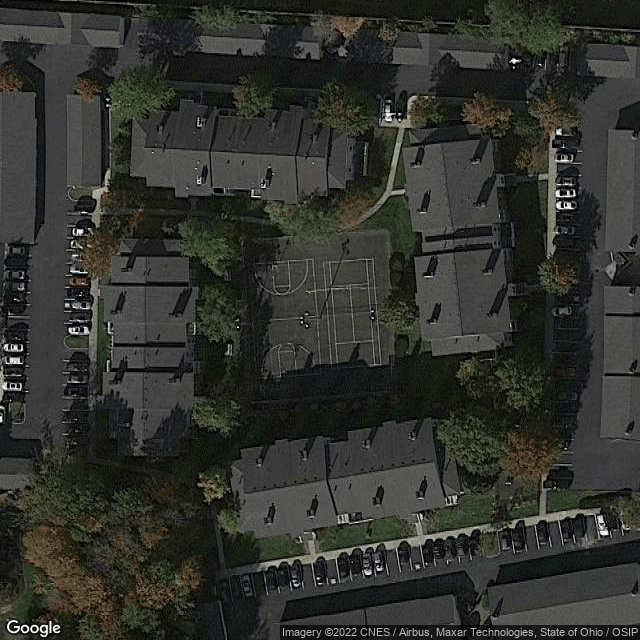Court: (322, 257, 383, 370)
